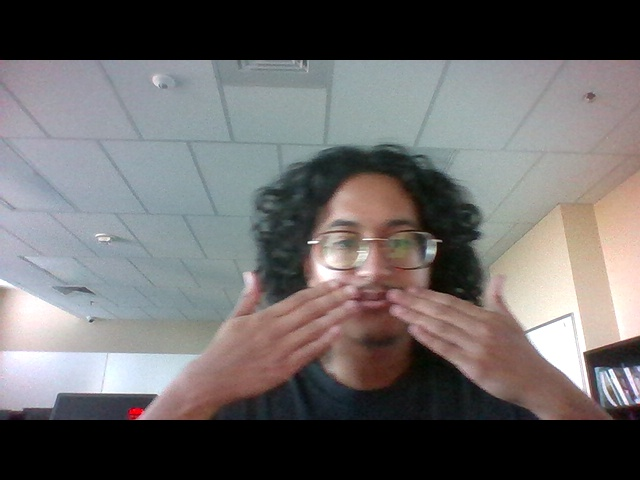thanks: (205, 263, 573, 400)
